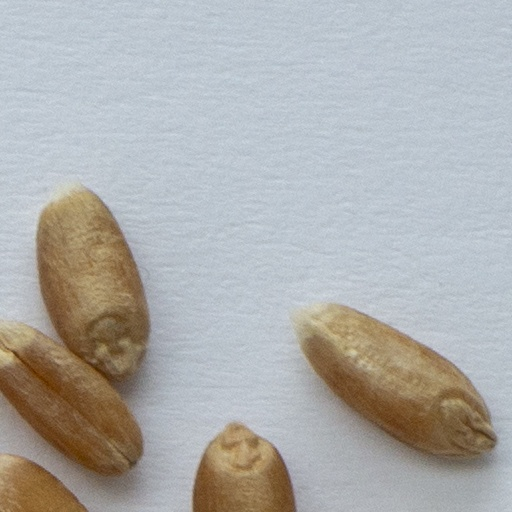Wheat-grain-poly: (292, 304, 496, 456)
